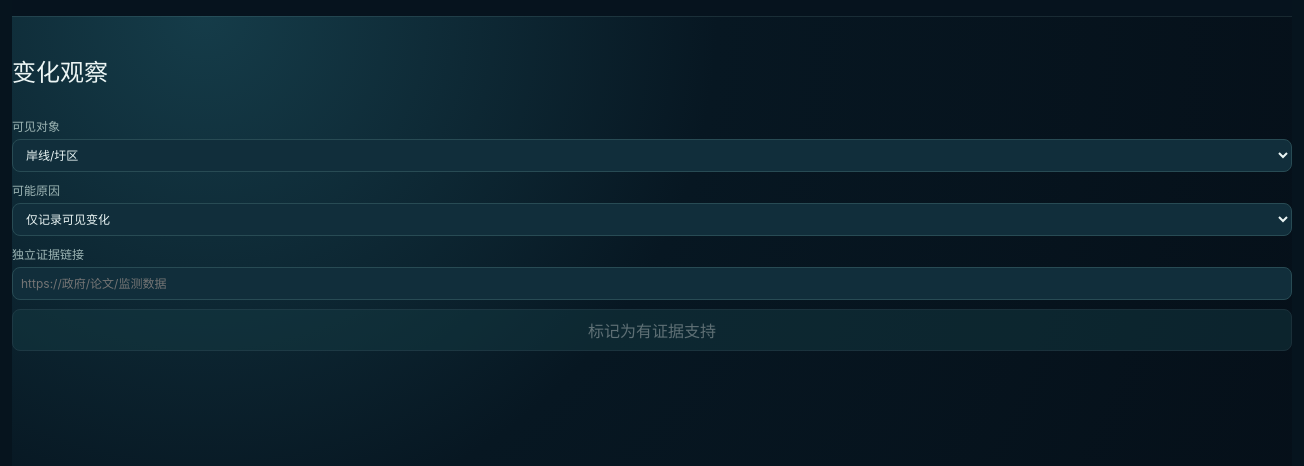
Test: cannot mark a definite pollution cause without an independent source
The width and height of the screenshot is (1304, 466).
Select "污染" in the dropdown labelled "可能原因" at (652, 219), box [12,203,1292,236]
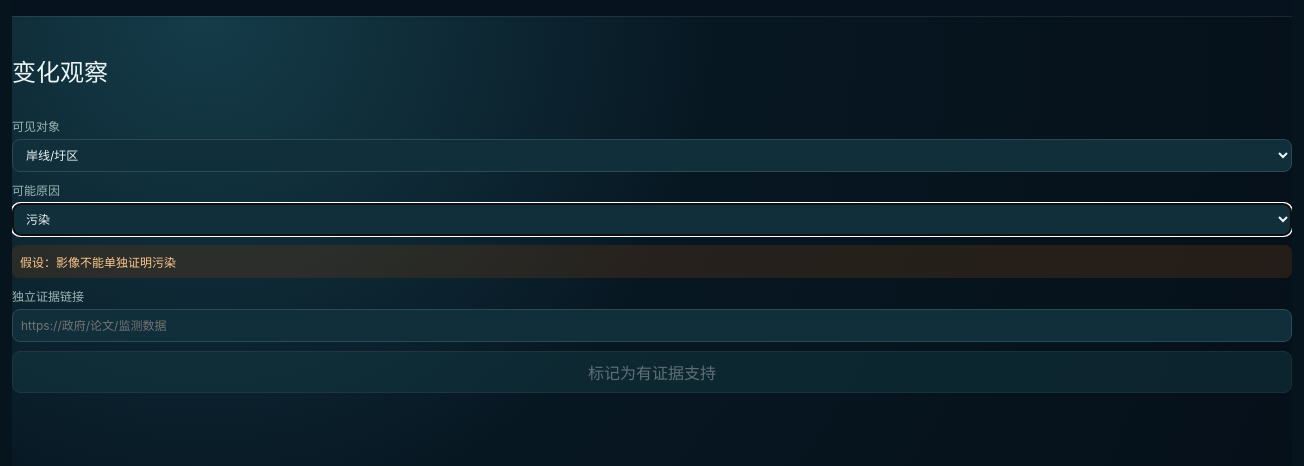
Check: the button "标记为有证据支持" is disabled, box [12,351,1292,393]
Check: the text "假设：影像不能单独证明污染" is shown, box [12,245,1292,278]
Type "https://example.gov.cn/evidence" into the field labelled "独立证据链接" at (652, 325), box [12,309,1292,342]
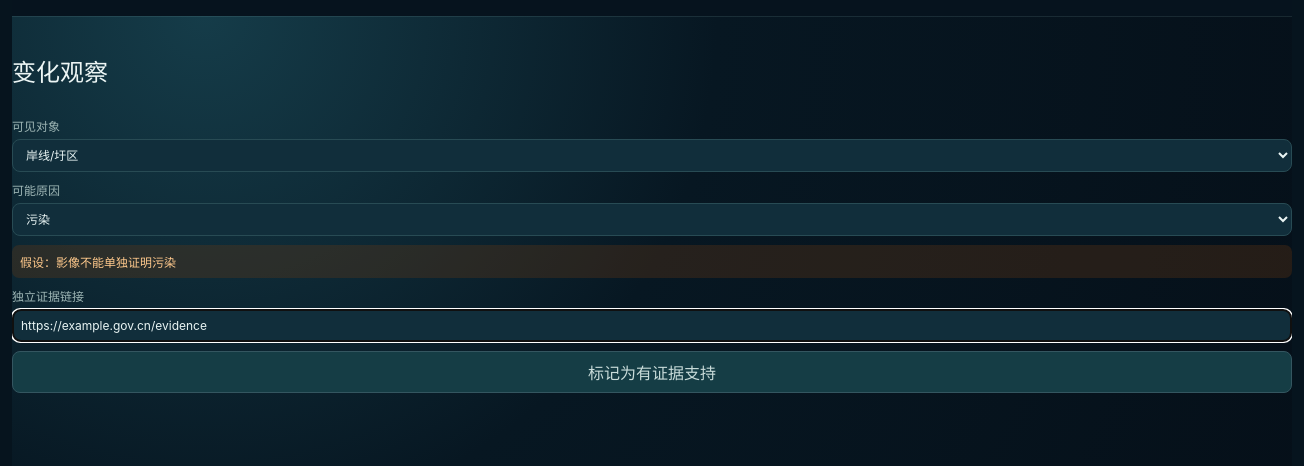
Check: the button "标记为有证据支持" is enabled, box [12,351,1292,393]
